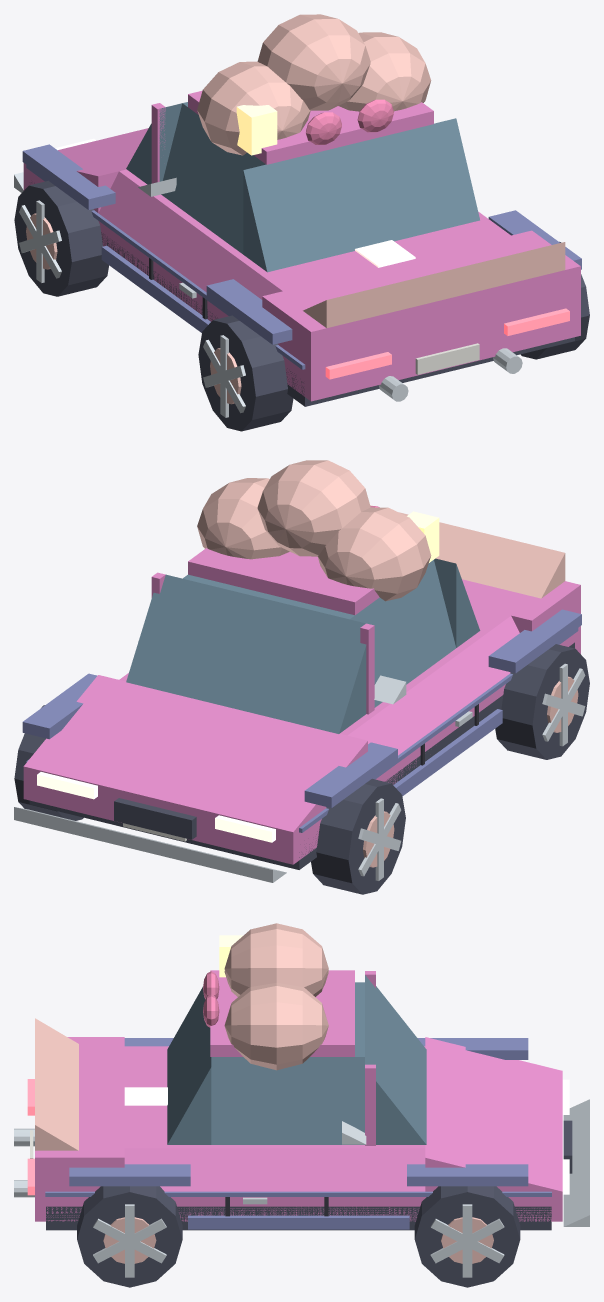
Rendered from moonlit_mule.glb.
3 views of the same model, one above another, from view 1: azimuth 30°, elevation 25°; view 2: azimuth 150°, elevation 25°; view 3: azimuth 270°, elevation 25° (orthographic). The views are drawn at different scales.
Parts seen in each view (by area): view 1: RearWindow.230, Tail.134, Body.330, CloudCap1.011, ShoulderL.127, CabinSideL.127, Ducktail.086, Wheel_RL.270, Wheel_FL.270, CloudCap0.011, BodyUpper.127, CloudCap2.011 (+22 smaller); view 2: Nose.127, Windshield.230, CloudCap1.011, ShoulderL.127, Body.330, CloudCap0.011, CabinSideL.127, Roof.330, Wheel_FL.270, Wheel_RL.270, Ducktail.086, CloudCap2.011 (+21 smaller); view 3: Nose.127, CabinSideR.127, ShoulderR.127, Tail.134, Windshield.230, CloudCap2.011, Wheel_RR.270, Wheel_FR.270, RearWindow.230, CloudCap1.011, Body.330, Ducktail.086 (+21 smaller).
Boxes of the visible parts, bbox=[...] form: RearWindow.230: bbox=[243, 118, 479, 272]; Tail.134: bbox=[262, 230, 580, 368]; Body.330: bbox=[23, 163, 580, 401]; CloudCap1.011: bbox=[257, 14, 370, 110]; ShoulderL.127: bbox=[98, 171, 282, 299]; CabinSideL.127: bbox=[161, 103, 265, 254]; Ducktail.086: bbox=[303, 242, 565, 328]; Wheel_RL.270: bbox=[198, 315, 293, 431]; Wheel_FL.270: bbox=[14, 180, 108, 296]; CloudCap0.011: bbox=[197, 61, 310, 155]; BodyUpper.127: bbox=[119, 169, 510, 290]; CloudCap2.011: bbox=[339, 32, 431, 111]; Nose.127: bbox=[23, 675, 367, 831]; Windshield.230: bbox=[126, 574, 366, 733]; CloudCap1.011: bbox=[257, 460, 370, 556]; ShoulderL.127: bbox=[347, 616, 519, 755]; Body.330: bbox=[23, 626, 580, 864]; CloudCap0.011: bbox=[317, 507, 431, 601]; CabinSideL.127: bbox=[350, 560, 455, 707]; Roof.330: bbox=[188, 548, 379, 615]; Wheel_FL.270: bbox=[311, 778, 405, 894]; Wheel_RL.270: bbox=[495, 644, 589, 759]; Ducktail.086: bbox=[370, 505, 565, 598]; CloudCap2.011: bbox=[197, 478, 289, 559]; Nose.127: bbox=[425, 1037, 562, 1191]; CabinSideR.127: bbox=[211, 1057, 364, 1144]; ShoulderR.127: bbox=[124, 1148, 425, 1191]; Tail.134: bbox=[35, 1037, 124, 1191]; Windshield.230: bbox=[365, 975, 426, 1144]; CloudCap2.011: bbox=[224, 982, 328, 1070]; Wheel_RR.270: bbox=[77, 1186, 182, 1287]; Wheel_FR.270: bbox=[414, 1186, 520, 1287]; RearWindow.230: bbox=[167, 987, 211, 1144]; CloudCap1.011: bbox=[224, 923, 328, 996]; Body.330: bbox=[35, 1191, 562, 1221]; Ducktail.086: bbox=[35, 1018, 78, 1150].
Bounding box in the file's own units: 3.3 × 2.85 × 5.24.
